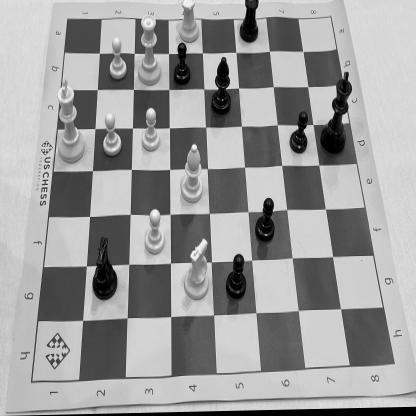black-bishop: (208, 53, 233, 118)
black-king: (318, 70, 354, 160)
black-pawn: (224, 252, 249, 304), (253, 194, 277, 248), (289, 111, 310, 161), (172, 41, 194, 88)
black-rook: (237, 0, 262, 49)
white-bishop: (178, 139, 205, 208)
white-king: (54, 74, 86, 166)
white-knight: (90, 234, 121, 304), (182, 235, 212, 304)
white-pawn: (142, 203, 167, 259), (99, 112, 125, 161), (139, 106, 163, 157), (106, 35, 130, 84)
white-queen: (137, 12, 163, 90)
white-rook: (176, 0, 202, 48)
